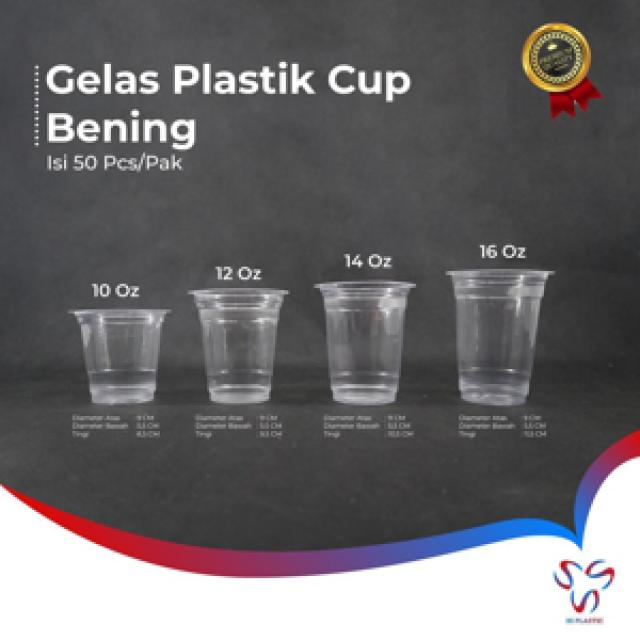plastic cup: (442, 258, 563, 414), (305, 273, 422, 412), (184, 282, 290, 408), (64, 301, 173, 412)
